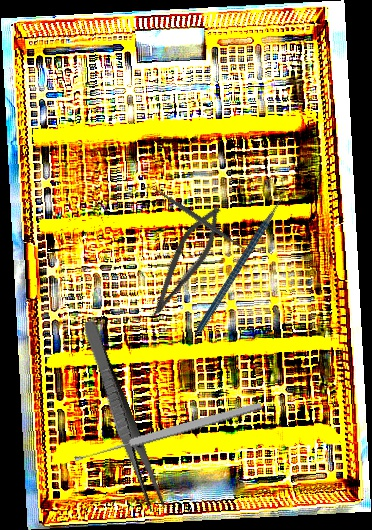Chopper: (156, 176, 327, 334)
Dressing Forceps: (76, 318, 168, 515)
Micro Scissor: (143, 199, 230, 327)
Spatula Surgical: (143, 179, 253, 258)
Surgical Spoon: (73, 399, 263, 465)
